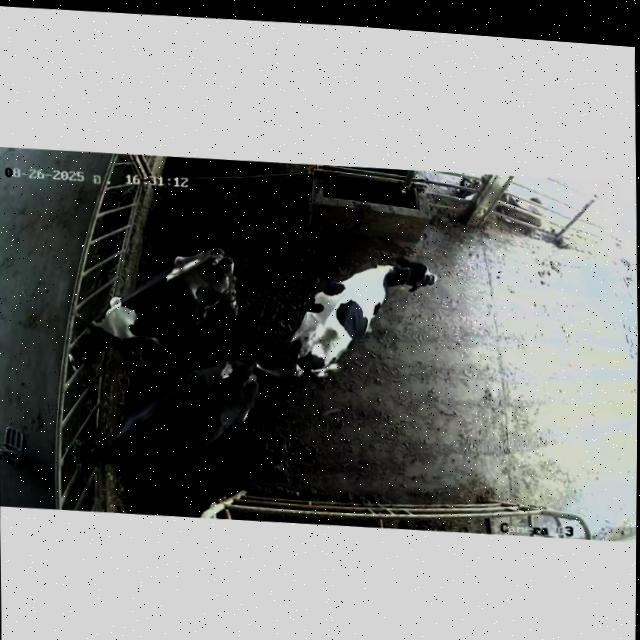eat: (24, 395, 143, 490), (37, 302, 132, 379)
stand: (263, 236, 460, 414)
